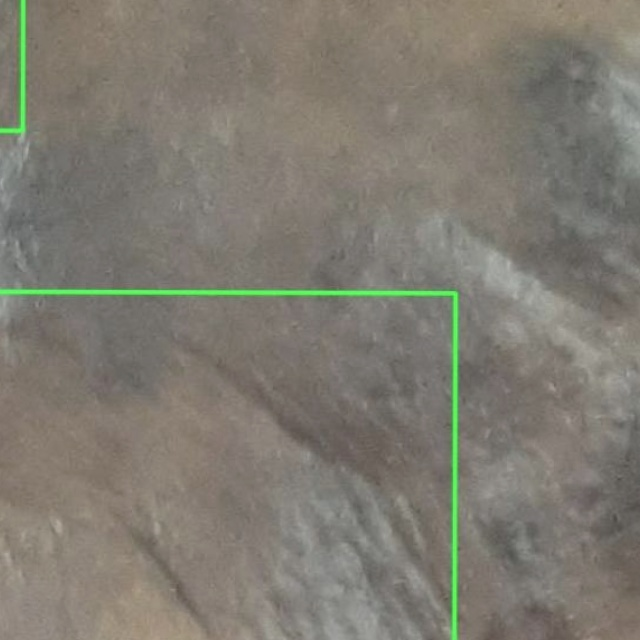Contact Dermatitis: (0, 291, 455, 639)
